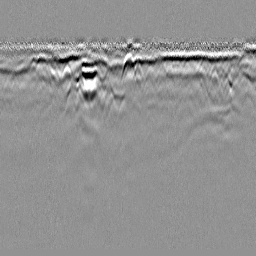cavity: (119, 51, 136, 83)
